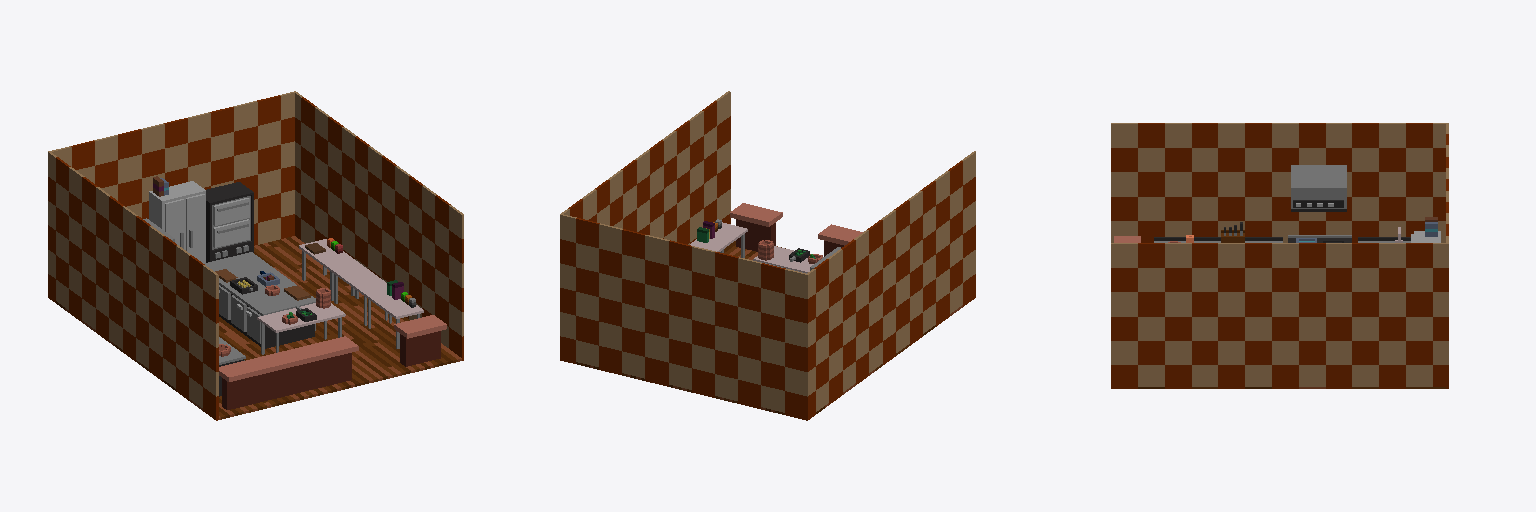
The picture shows the model from 3 angles: view 1: azimuth 30°, elevation 25°; view 2: azimuth 150°, elevation 25°; view 3: azimuth 270°, elevation 25°; orthographic projection.
Parts seen in each view (by area): view 1: object 1; view 2: object 1; view 3: object 1.
Boxes of the visible parts, x1,y1,x2,y2 form: object 1: [48, 91, 463, 420]; object 1: [560, 91, 975, 420]; object 1: [1111, 123, 1448, 388].
Bounding box in the file's own units: 10.7 × 6 × 12.6.
Materials: 1 (1 with a texture image).